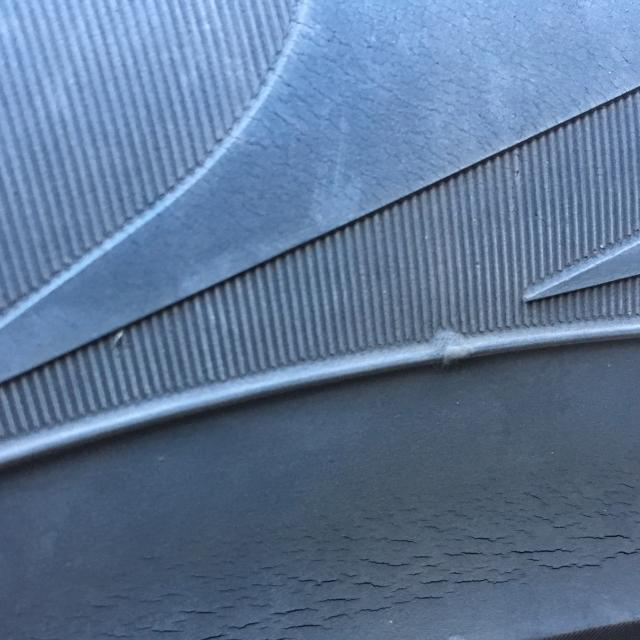Cracks: (0, 422, 640, 640), (151, 0, 640, 246)
